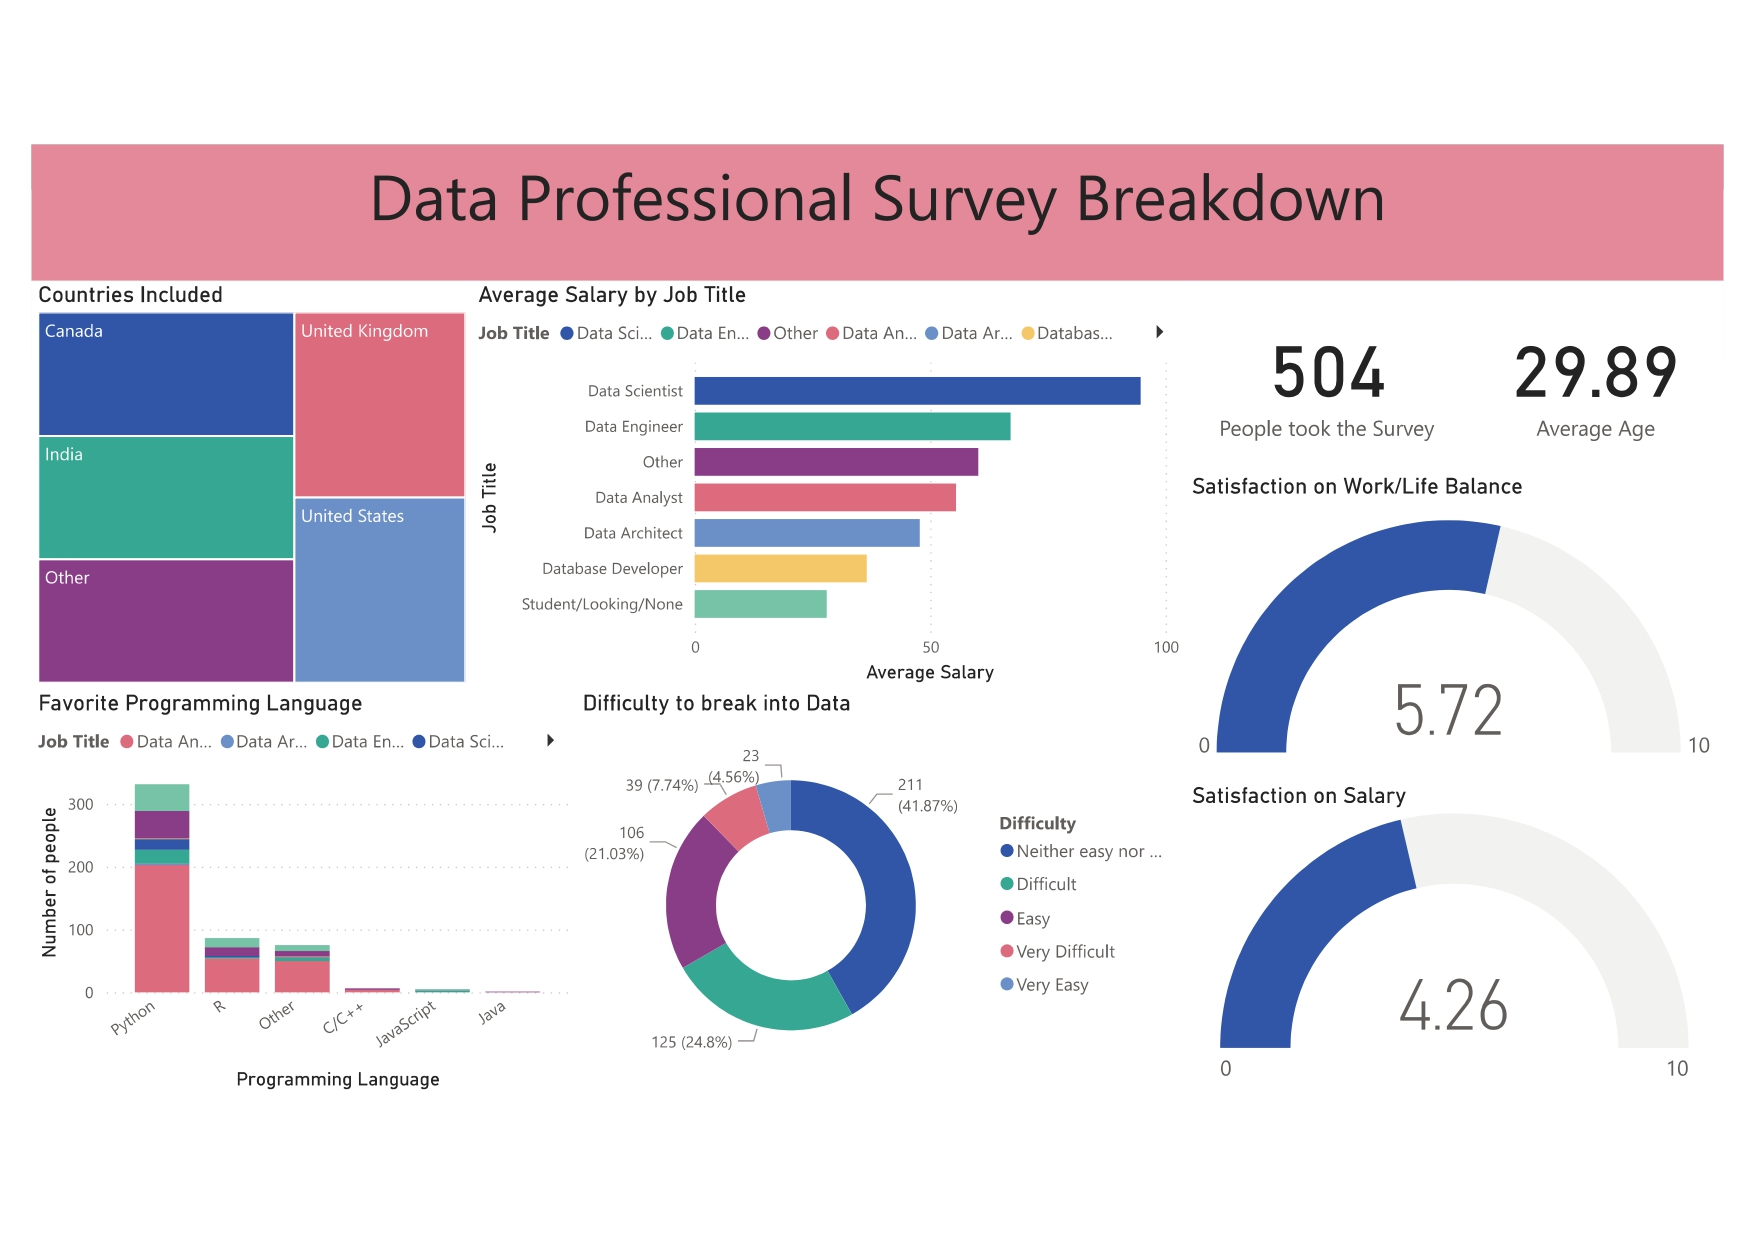

Layout of this report page (visuals, bound fields, positions):
{"tool":"powerbi","page":{"name":"Page 1","canvas":[1280,720],"ordinal":0},"visuals":[{"type":"textbox","box":[0,0,1280.3,102.9],"z":0},{"type":"card","fields":{"Values":["CountNonNull(Data Professional Survey.Unique ID)"]},"box":[872.7,102.9,214.1,145.5],"z":1000},{"type":"card","fields":{"Values":["Avg(Data Professional Survey.Q10 - Current Age)"]},"box":[1086.8,102.9,193.5,145.5],"z":2000},{"type":"barChart","title":"Average Salary by Job Title","fields":{"Y":["Avg(Data Professional Survey.Average Salary)"],"Category":["Data Professional Survey.Q1 - Which Title Best Fits your Current Role?.1"],"Series":["Data Professional Survey.Q1 - Which Title Best Fits your Current Role?.1"]},"box":[333.4,102.9,539.3,308.7],"z":3000},{"type":"columnChart","title":"Favorite Programming Language","fields":{"Category":["Data Professional Survey.Q5 - Favorite Programming Language.1"],"Series":["Data Professional Survey.Q1 - Which Title Best Fits your Current Role?.1"],"Y":["CountNonNull(Data Professional Survey.Unique ID)"]},"box":[0,411.7,411.7,308.7],"z":4000},{"type":"treemap","title":"Countries Included","fields":{"Group":["Data Professional Survey.Q11 - Which Country do you live in?.1"],"Values":["Count(Data Professional Survey.Q11 - Which Country do you live in?.1)"]},"box":[0,102.9,333.4,308.7],"z":5000},{"type":"gauge","title":"Satisfaction on Work/Life Balance","fields":{"Y":["Avg(Data Professional Survey.Q6 - How Happy are you in your Current Position with the following? (Work/Life Balance))"],"MaxValue":["Max(Data Professional Survey.Q6 - How Happy are you in your Current Position with the following? (Work/Life Balance))"],"MinValue":["Min(Data Professional Survey.Q6 - How Happy are you in your Current Position with the following? (Work/Life Balance))1"]},"box":[872.7,248.4,407.5,233.3],"z":5001},{"type":"gauge","title":"Satisfaction on Salary","fields":{"Y":["Avg(Data Professional Survey.Q6 - How Happy are you in your Current Position with the following? (Salary))"],"MinValue":["Min(Data Professional Survey.Q6 - How Happy are you in your Current Position with the following? (Salary))"],"MaxValue":["Max(Data Professional Survey.Q6 - How Happy are you in your Current Position with the following? (Salary))1"]},"box":[872.7,481.6,407.5,238.8],"z":5002},{"type":"donutChart","title":"Difficulty to break into Data","fields":{"Category":["Data Professional Survey.Q7 - How difficult was it for you to break into Data?"],"Y":["CountNonNull(Data Professional Survey.Q1 - Which Title Best Fits your Current Role?.1)"]},"box":[411.7,411.7,461.1,308.7],"z":5003}]}

Visuals, with their boxes on the page's 1280x720 design canvas (x1, y1, x2, y2). These are canvas units, not pixel positions in the 1755x1241 screenshot, which may show the page scaled, cropped or inside an application window:
textbox: select_region(0, 0, 1280, 103)
card - CountNonNull(Data Professional Survey.Unique ID): select_region(873, 103, 1087, 248)
card - Avg(Data Professional Survey.Q10 - Current Age): select_region(1087, 103, 1280, 248)
"Average Salary by Job Title" barChart: select_region(333, 103, 873, 412)
"Favorite Programming Language" columnChart: select_region(0, 412, 412, 720)
"Countries Included" treemap: select_region(0, 103, 333, 412)
"Satisfaction on Work/Life Balance" gauge: select_region(873, 248, 1280, 482)
"Satisfaction on Salary" gauge: select_region(873, 482, 1280, 720)
"Difficulty to break into Data" donutChart: select_region(412, 412, 873, 720)
